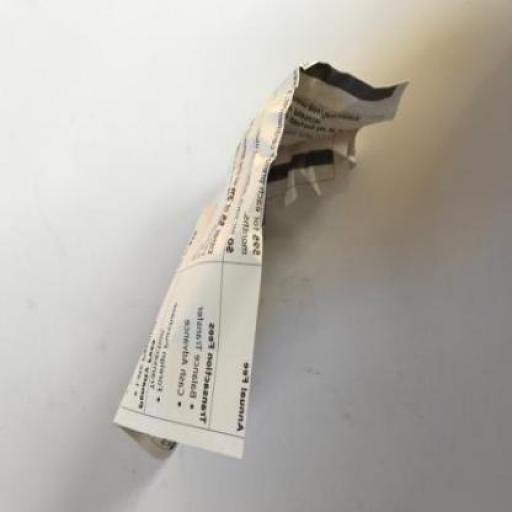paper: (110, 62, 408, 462)
